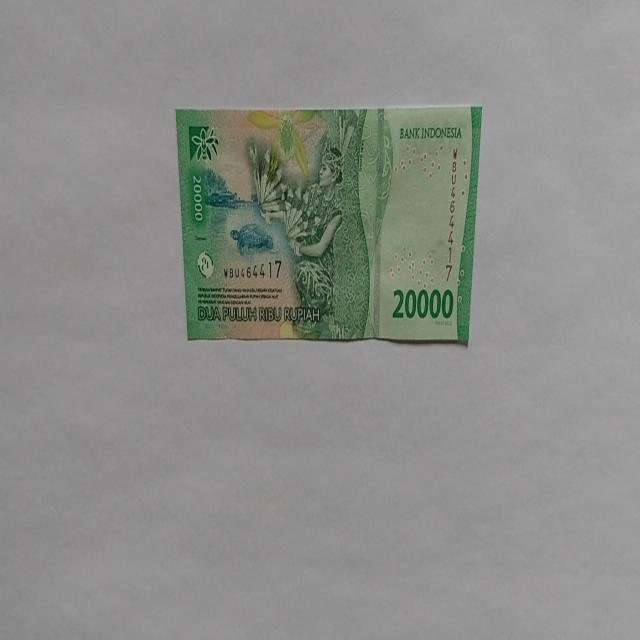dua puluh ribu rupiah: (175, 104, 483, 346)
